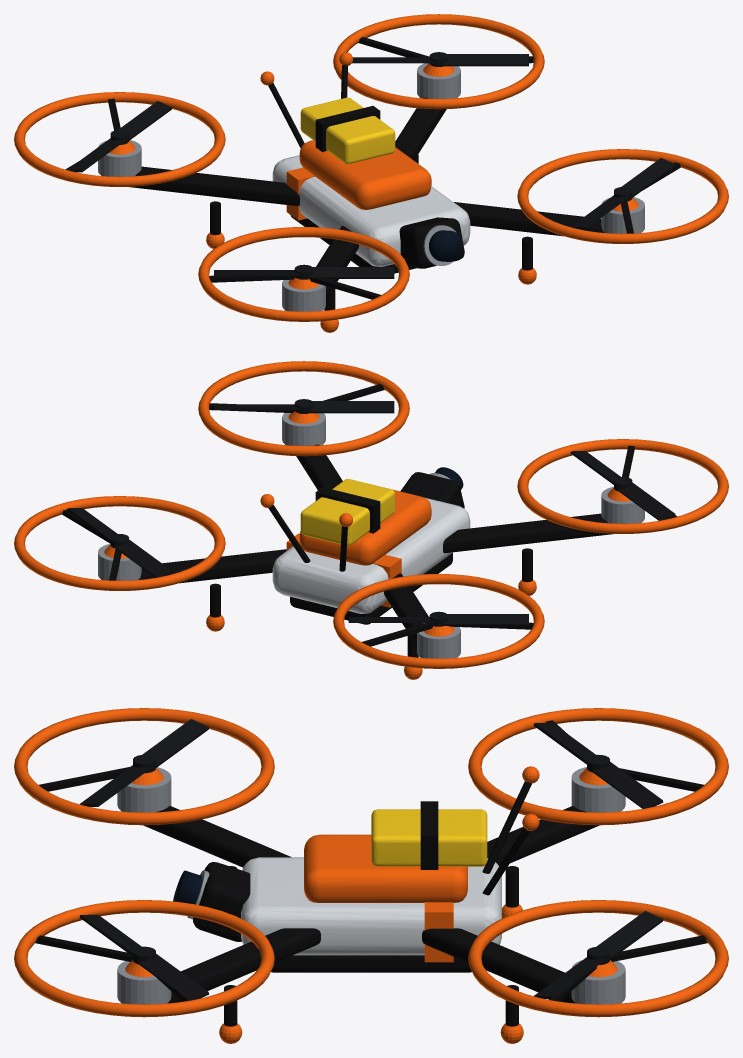
Rendered from drone.obj.
3 renders of one model, top to bottom at view 1: azimuth 30°, elevation 25°; view 2: azimuth 150°, elevation 25°; view 3: azimuth 270°, elevation 25°, orthographic. The views are drawn at different scales.
Parts seen in each view (by area): view 1: hull, canopy, guard_FL, guard_FR, guard_BL, guard_BR, battery, arm_BL, arm_FR, prop_BR, prop_FL, prop_BL (+12 smaller); view 2: hull, guard_BL, guard_FR, guard_BR, guard_FL, canopy, battery, arm_FL, arm_BR, prop_FR, prop_BL, prop_FL (+12 smaller); view 3: hull, canopy, guard_FL, guard_FR, guard_BR, guard_BL, battery, arm_BR, arm_FR, belly, arm_FL, campod (+19 smaller).
Boxes of the visible parts, box(x1,y1,x2,y2) form: hull: box(272, 155, 470, 266); canopy: box(299, 140, 431, 209); guard_FL: box(198, 227, 409, 321); guard_FR: box(517, 149, 728, 243); guard_BL: box(14, 92, 225, 186); guard_BR: box(333, 14, 544, 109); battery: box(300, 97, 395, 164); arm_BL: box(129, 166, 299, 205); arm_FR: box(454, 202, 604, 236); prop_BR: box(352, 52, 528, 66); prop_FL: box(214, 264, 394, 279); prop_BL: box(67, 101, 172, 172); hull: box(272, 497, 470, 613); guard_BL: box(333, 574, 544, 668); guard_FR: box(198, 361, 409, 456); guard_BR: box(14, 496, 225, 590); guard_FL: box(517, 439, 728, 533); canopy: box(299, 489, 431, 565); battery: box(300, 479, 395, 545); arm_FL: box(443, 513, 613, 553); arm_BR: box(138, 549, 286, 583); prop_FR: box(214, 399, 394, 413); prop_BL: box(348, 611, 528, 626); prop_FL: box(570, 451, 675, 520); hull: box(241, 857, 501, 955); canopy: box(304, 834, 467, 902); guard_FL: box(14, 708, 274, 825); guard_FR: box(14, 900, 274, 1017); guard_BR: box(468, 900, 728, 1017); guard_BL: box(468, 708, 728, 825); battery: box(371, 809, 487, 866); arm_BR: box(422, 928, 575, 1003); arm_FR: box(167, 928, 320, 1003); belly: box(271, 955, 471, 972); arm_FL: box(143, 806, 291, 867); campod: box(193, 862, 250, 941).
Bounding box in the file's own units: 0.74 × 0.22 × 0.74.
